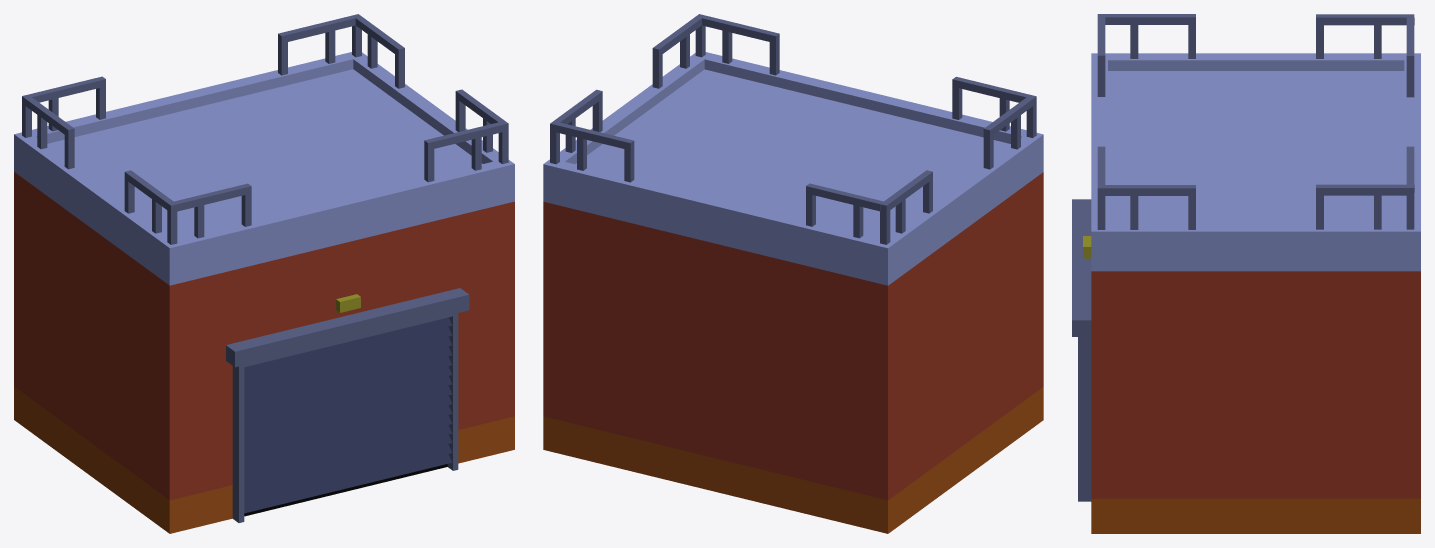
The model's file is Factory_part7.FBX.
3 views of the same model, side by side, from view 1: azimuth 30°, elevation 25°; view 2: azimuth 150°, elevation 25°; view 3: azimuth 270°, elevation 25° (orthographic). The views are drawn at different scales.
Parts seen in each view (by area): view 1: Factory_part7; view 2: Factory_part7; view 3: Factory_part7.
Boxes of the visible parts, bbox=[...] form: Factory_part7: bbox=[14, 14, 514, 533]; Factory_part7: bbox=[543, 14, 1043, 533]; Factory_part7: bbox=[1072, 14, 1420, 533].
Bounding box in the file's own units: 109 × 97.78 × 89.9.
